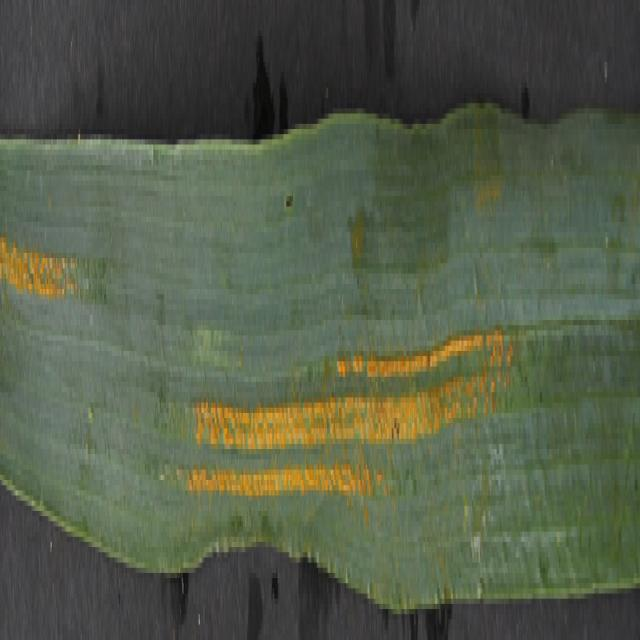leaf rust: (187, 238, 510, 552), (1, 180, 69, 408)
